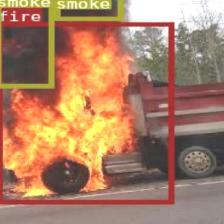fire: (0, 21, 172, 204)
smoke: (0, 0, 52, 86), (54, 0, 122, 20)
